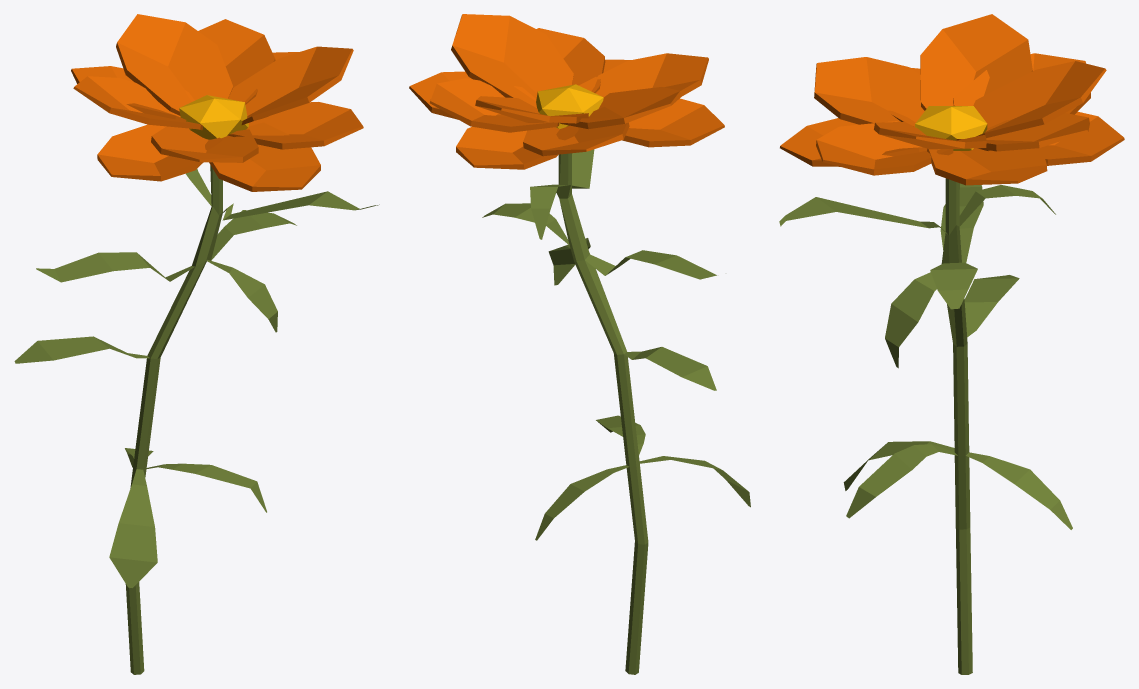
The model's file is calendula.fbx.
3 renders of one model, left to right at view 1: azimuth 30°, elevation 25°; view 2: azimuth 150°, elevation 25°; view 3: azimuth 270°, elevation 25°, orthographic. The views are drawn at different scales.
Parts seen in each view (by area): view 1: calendula-flower; view 2: calendula-flower; view 3: calendula-flower.
Part boxes in pixels (x1,y1,x2,y2): calendula-flower: (14, 14, 379, 674); calendula-flower: (409, 14, 750, 674); calendula-flower: (779, 14, 1124, 674).
Bounding box in the file's own units: 0.6344 × 1.2 × 0.5859.
